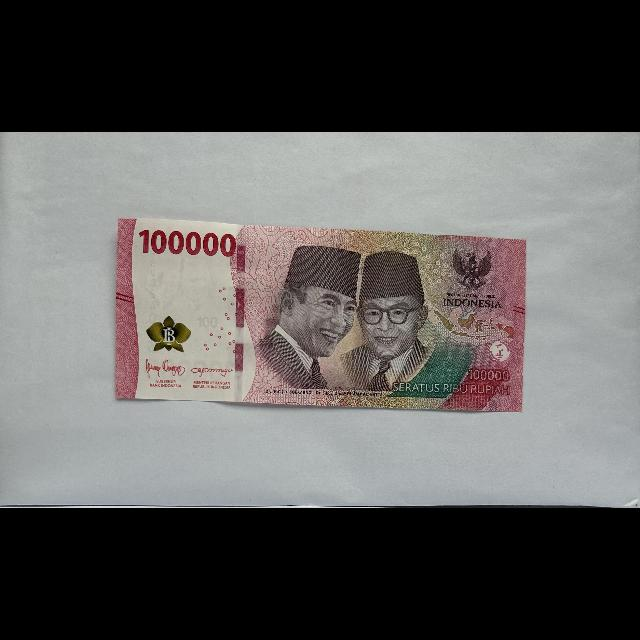Asli-100k: (115, 216, 528, 416)
Tinta-Asli-100k: (146, 315, 193, 354)
